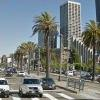Car: (16, 74, 55, 99)
